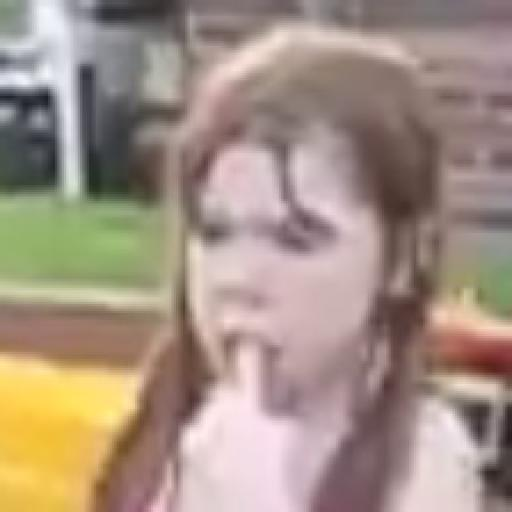Autism: (142, 0, 462, 453)
